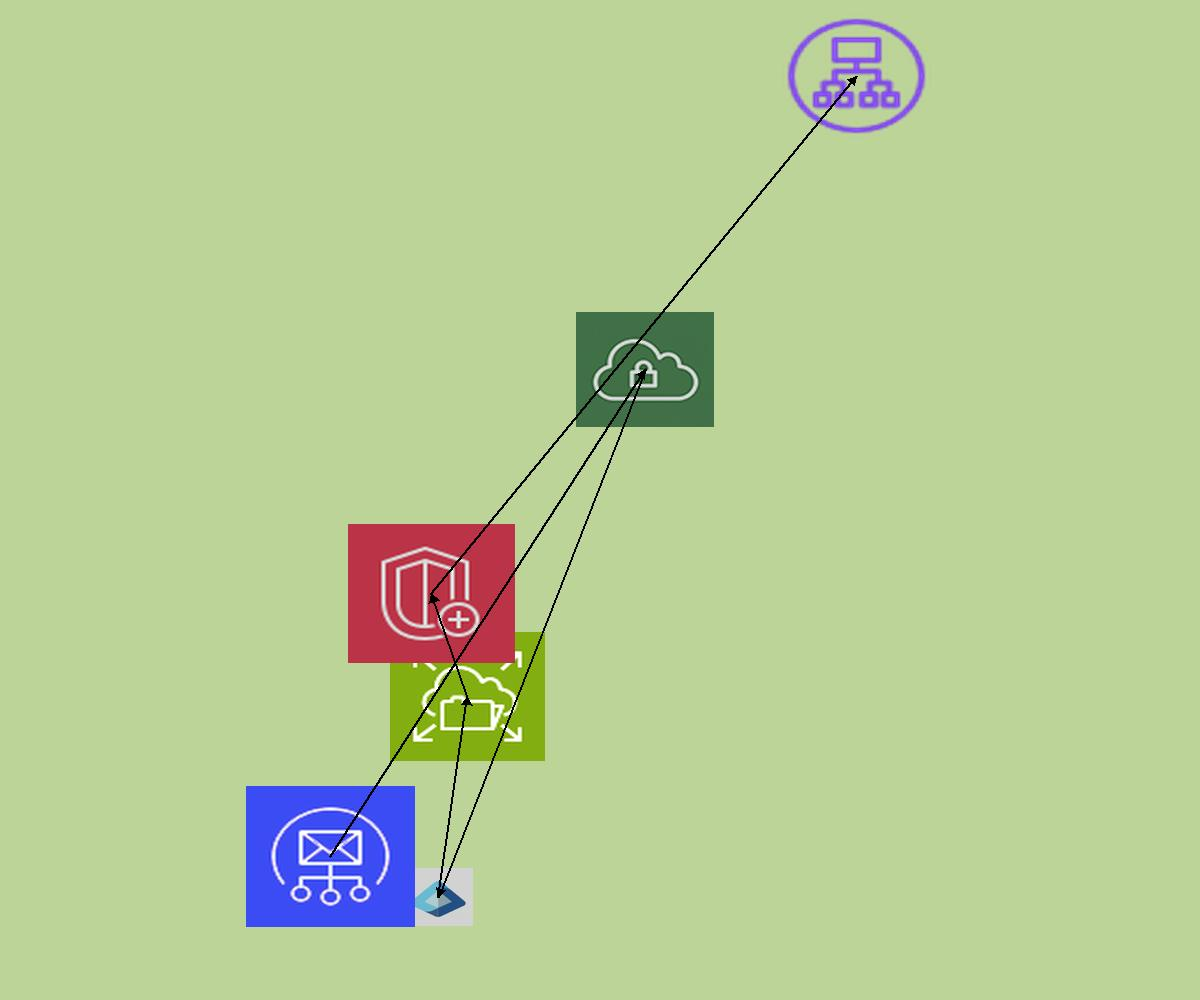AWS-EFS: (390, 632, 545, 761)
AWS-Private_vpc: (576, 312, 714, 427)
AWS-Res_Elastic-Load-Balancing_Application-Load-Balancer: (782, 14, 931, 138)
AWS-Shield: (348, 524, 515, 663)
AWS-Simple-Email-Service: (246, 786, 415, 927)
Azure_microsoft_entra: (403, 868, 473, 926)
